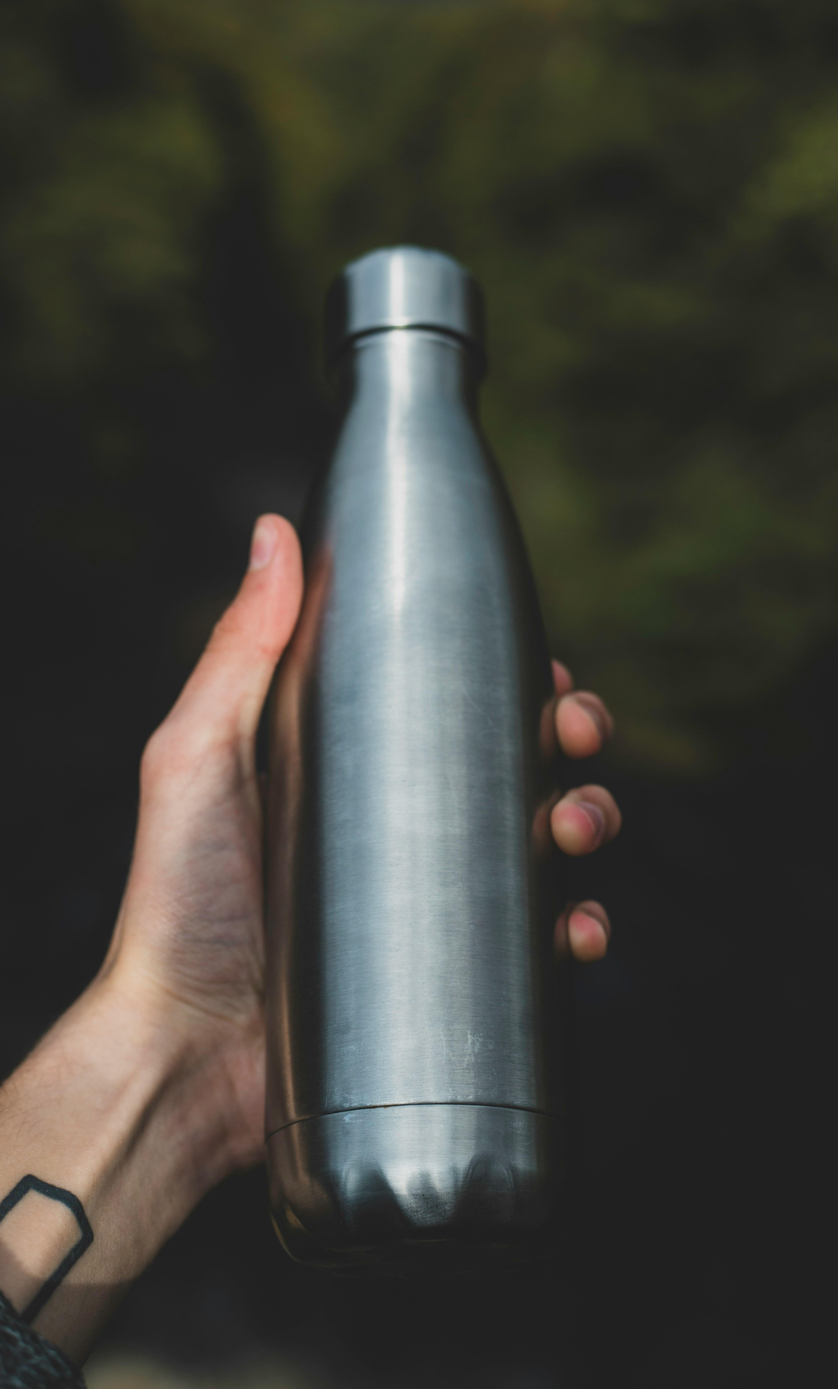Bottle-Detection: (225, 191, 602, 1314)
